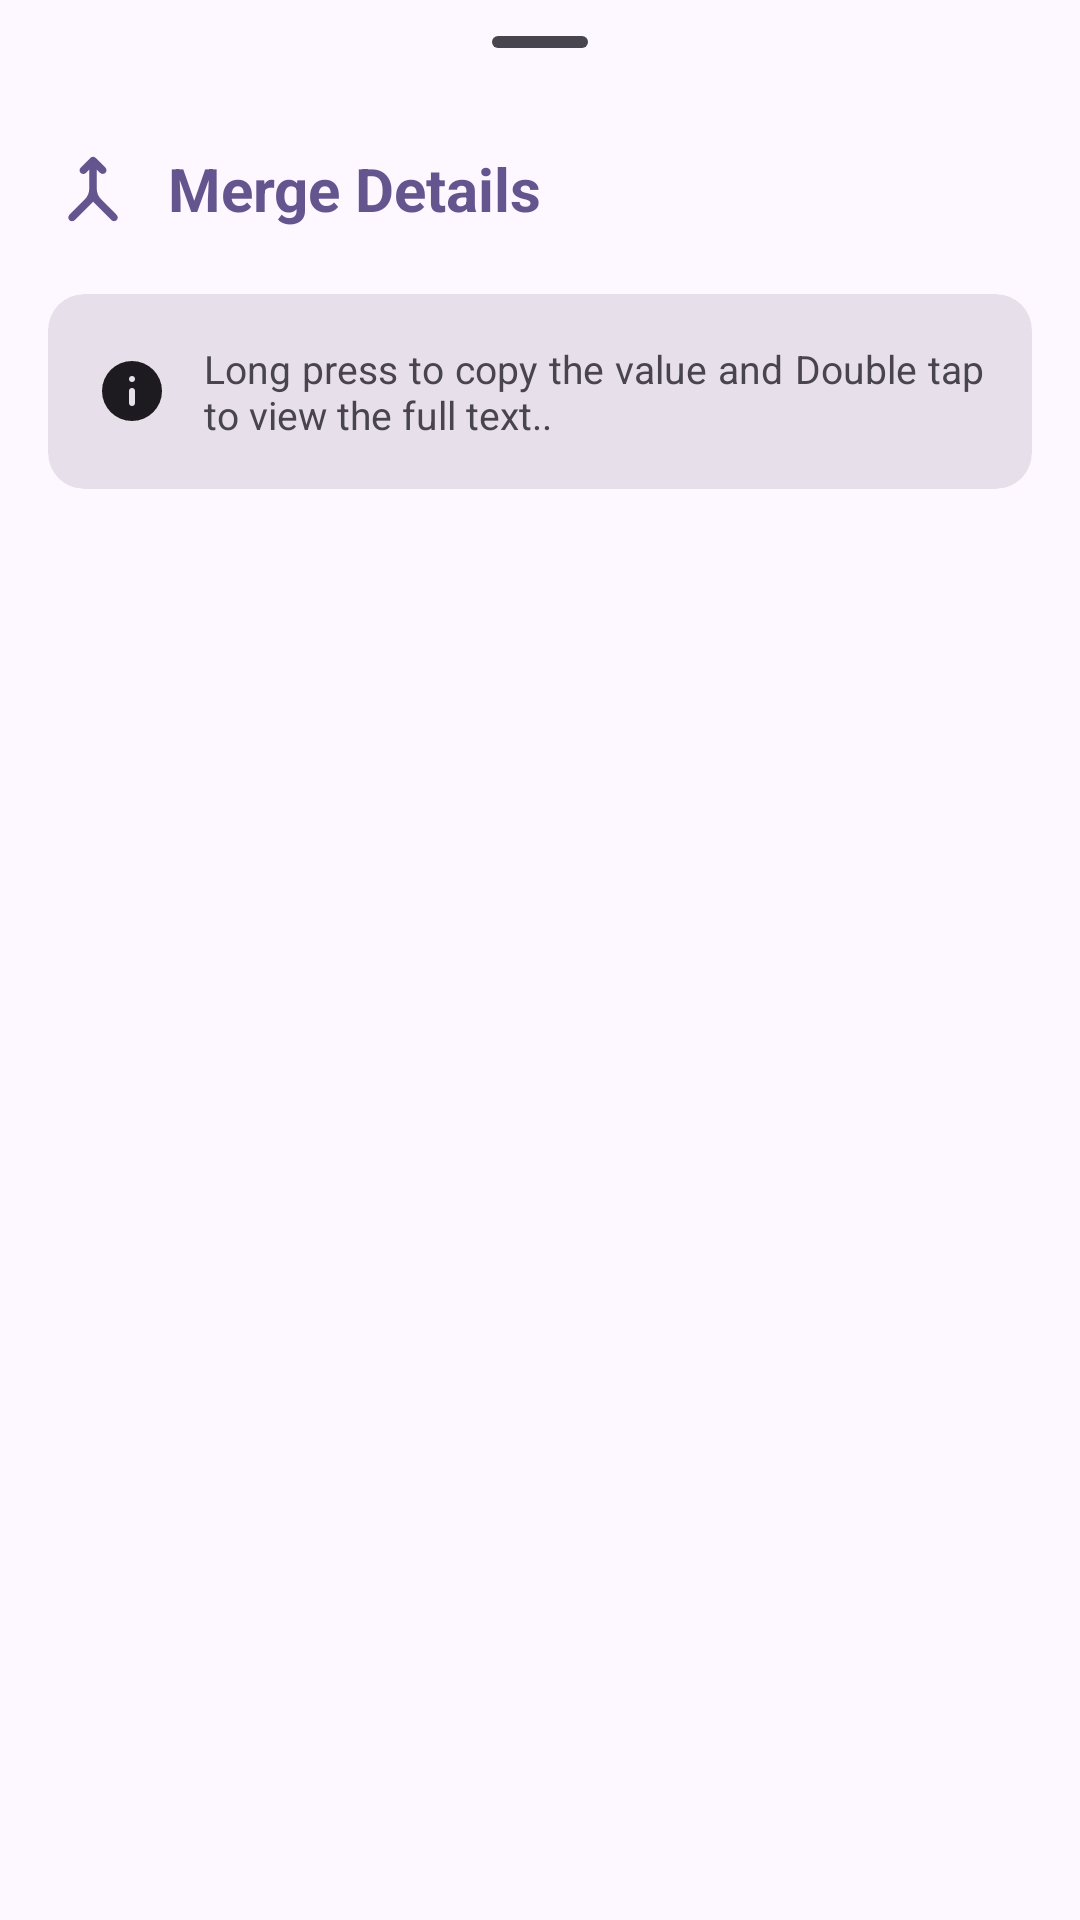

Icons on this 1080px x 1920px Android screen, each with its box as {"x1": x1, "y1": y1, "x2": x2, "y2": y2}:
info: {"x1": 102, "y1": 361, "x2": 162, "y2": 421}
